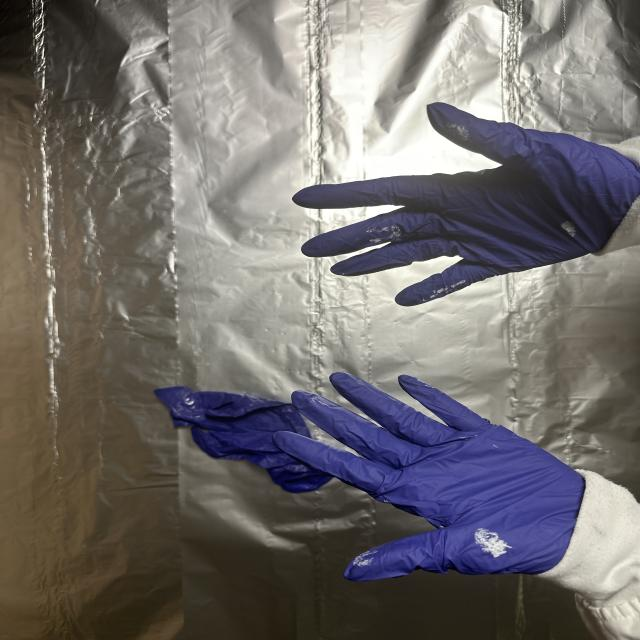gloves_contaminated: (293, 103, 640, 306), (274, 373, 584, 580)
